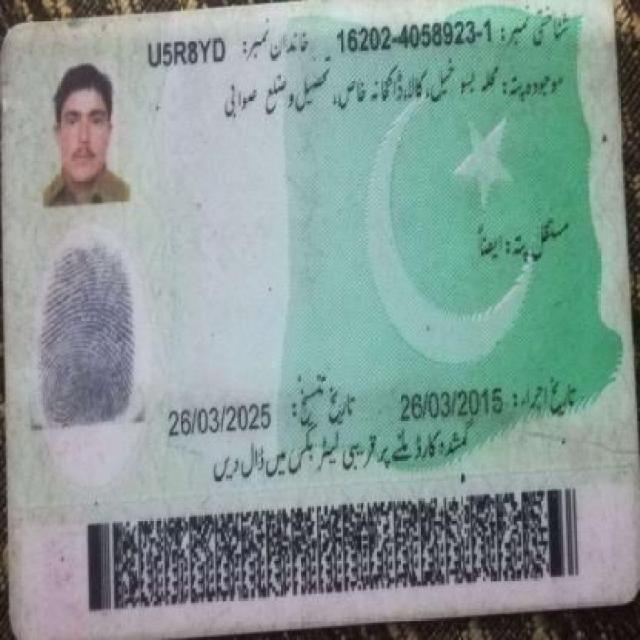Back: (11, 6, 622, 612)
